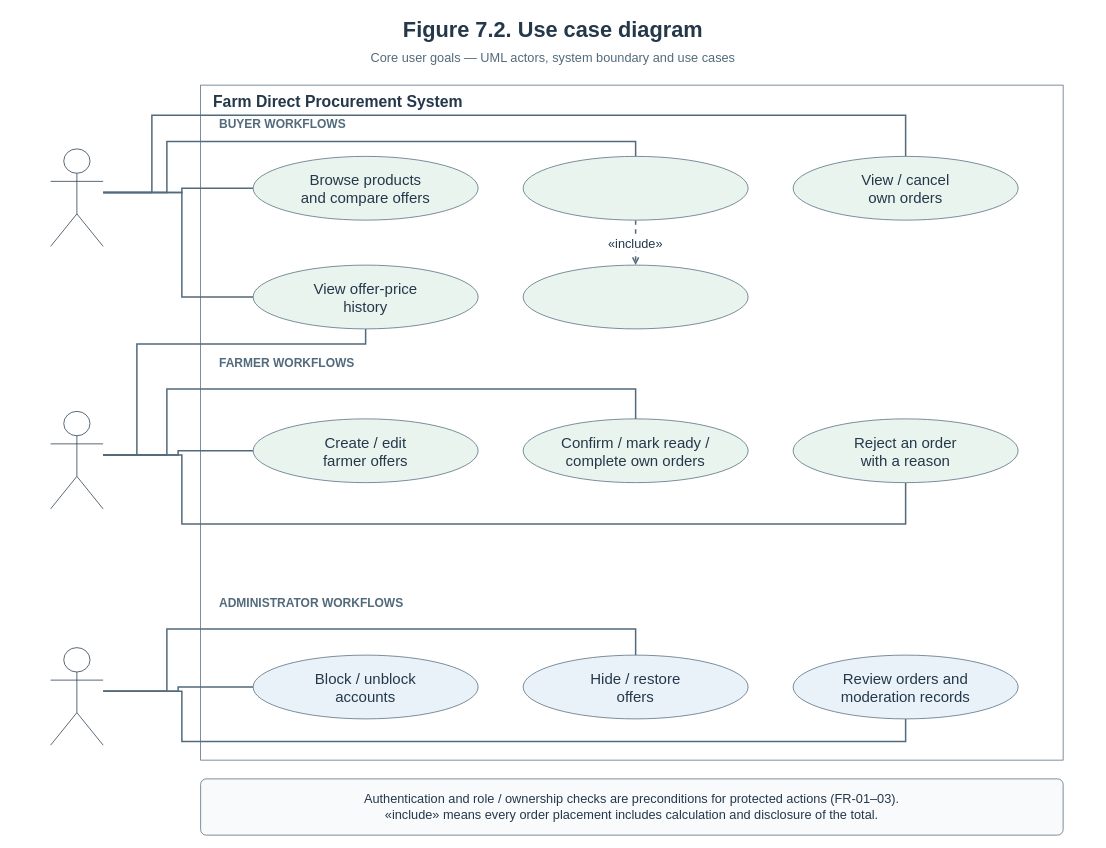
Some shapes in this 1106 by 848 pixel diagram are drawn without their labels. The centre of each missing label's shape, as x and y in pixels:
"Administrator" belongs at (76,696).
"Buyer" belongs at (76,197).
"Calculate and display order total" belongs at (635,296).
"Farmer" belongs at (76,460).
"Place an order" belongs at (635,188).
